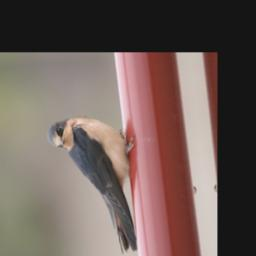Swallow: (43, 111, 154, 256)
